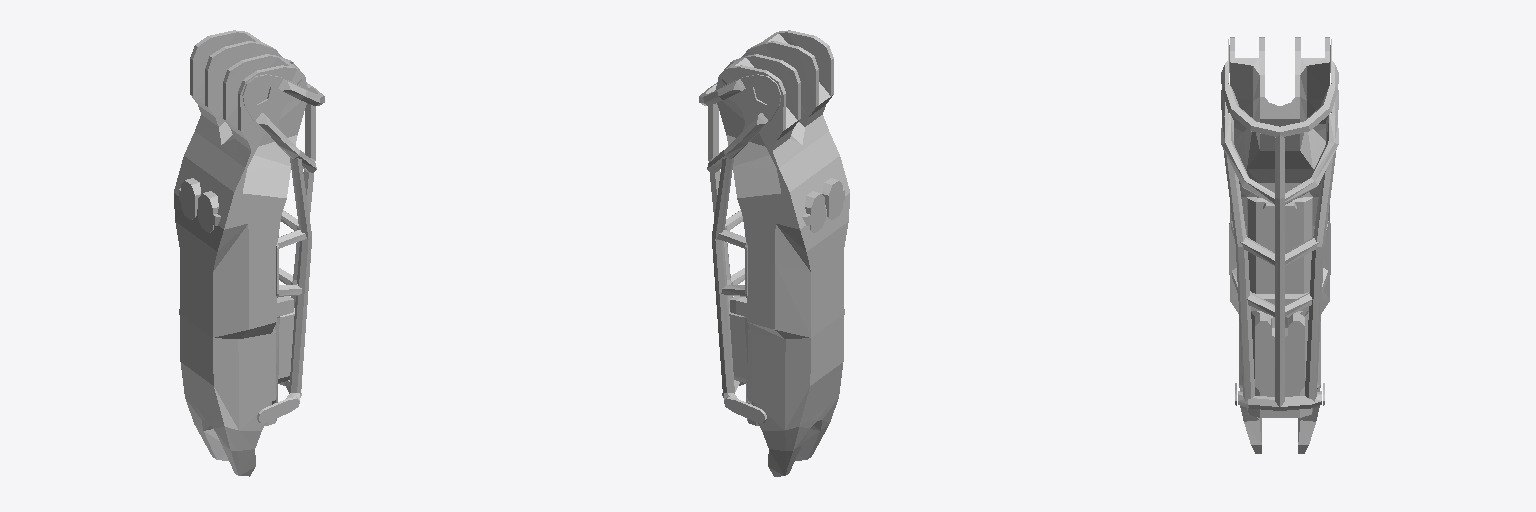
The model's file is r_lleg.obj.
The picture shows the model from 3 angles: view 1: azimuth 30°, elevation 25°; view 2: azimuth 150°, elevation 25°; view 3: azimuth 270°, elevation 25°; orthographic projection.
Visible parts, largest first — view 1: <dummy_root>; view 2: <dummy_root>; view 3: <dummy_root>.
Part boxes in pixels (bbox=[...]): <dummy_root>: bbox=[174, 30, 324, 476]; <dummy_root>: bbox=[699, 30, 849, 476]; <dummy_root>: bbox=[1221, 37, 1338, 453].
Bounding box in the file's own units: 0.1367 × 0.4522 × 0.116.